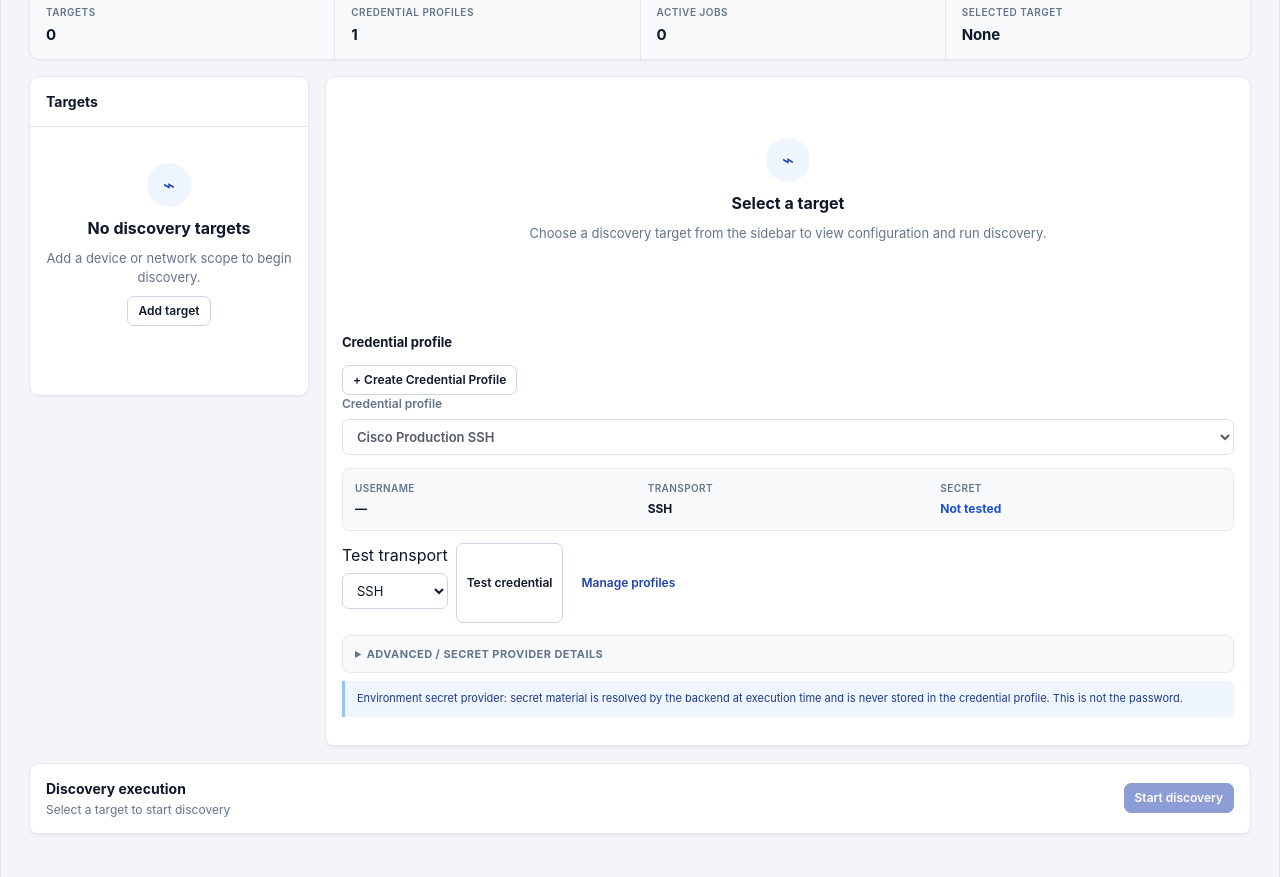
Test case: DiscoveryPage › hides the secret provider reference from the normal summary and reveals it in advanced details only
(page scrolled)
expect the text "Secret" is shown: met, box [940,482,982,494]
expect the text "Not tested" is shown: met, box [940,501,1001,516]
Click the heading "Advanced / Secret provider details" at (485, 654), box [367,646,603,660]
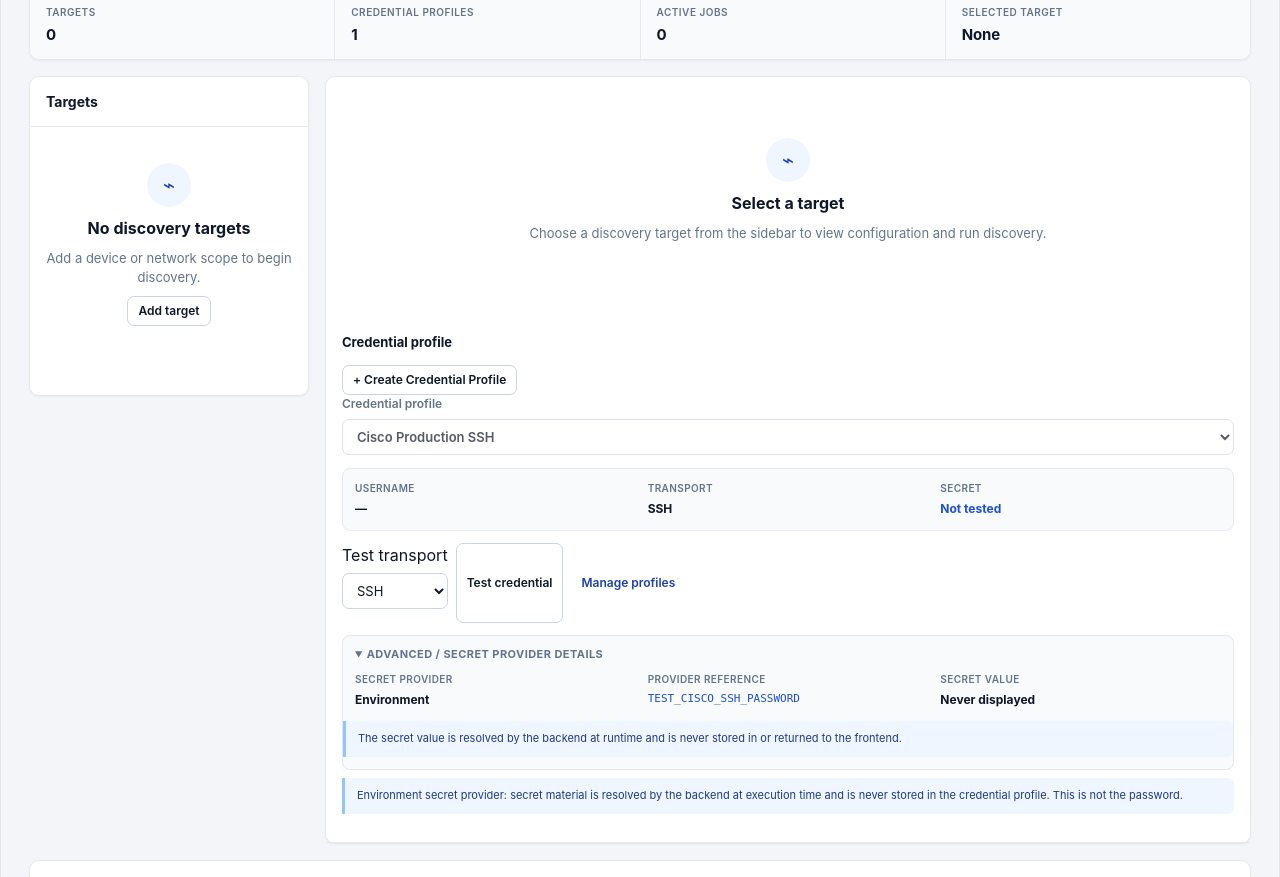
expect the text "Secret provider" is shown: met, box [355,673,453,685]
expect the text "Environment" is shown: met, box [355,692,429,707]
expect the text "Provider reference" is shown: met, box [648,673,766,685]
